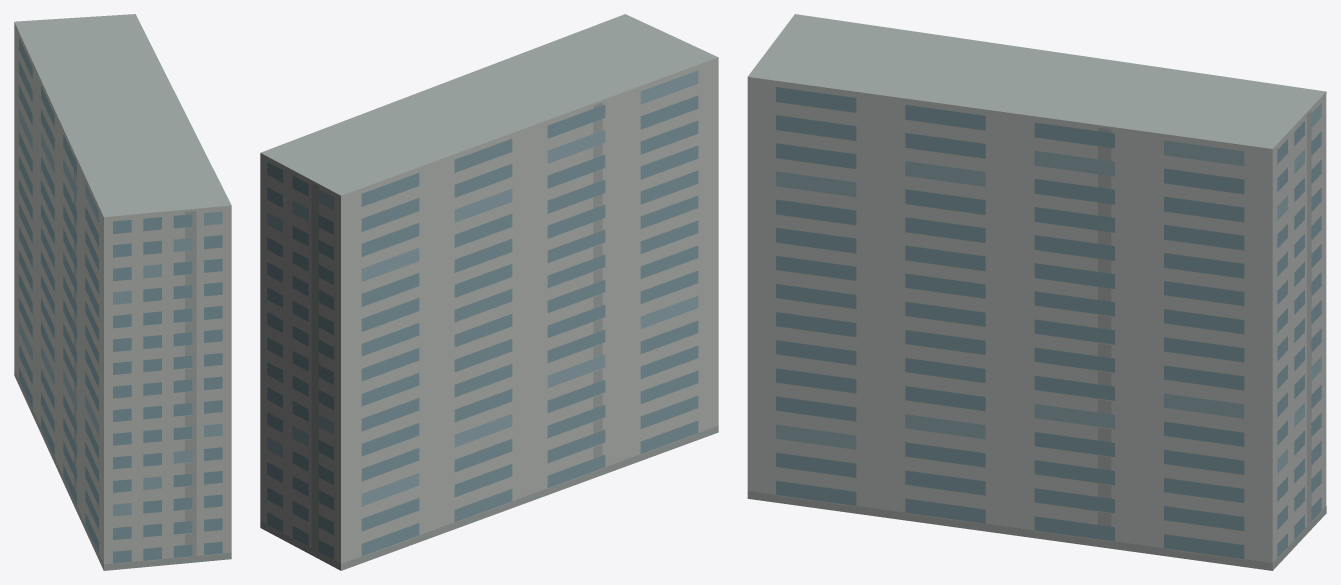
Rendered from residential-aef0aa86-e106-40fa-8e5e-81859686e582.glb.
The picture shows the model from 3 angles, left to right: view 1: azimuth 30°, elevation 25°; view 2: azimuth 150°, elevation 25°; view 3: azimuth 270°, elevation 25°; orthographic projection. The views are drawn at different scales.
Parts seen in each view (by area): view 1: residential-aef0aa86-e106-40fa-8e5e-81859686e582.tmp; view 2: residential-aef0aa86-e106-40fa-8e5e-81859686e582.tmp; view 3: residential-aef0aa86-e106-40fa-8e5e-81859686e582.tmp.
Part boxes in pixels (left/top/right/bottom): residential-aef0aa86-e106-40fa-8e5e-81859686e582.tmp: left=14, top=14, right=231, bottom=570; residential-aef0aa86-e106-40fa-8e5e-81859686e582.tmp: left=260, top=14, right=718, bottom=570; residential-aef0aa86-e106-40fa-8e5e-81859686e582.tmp: left=747, top=14, right=1326, bottom=570.
Bounding box in the file's own units: 27.46 × 40 × 49.75.
